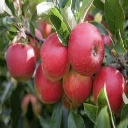apple: (5, 42, 37, 78)
